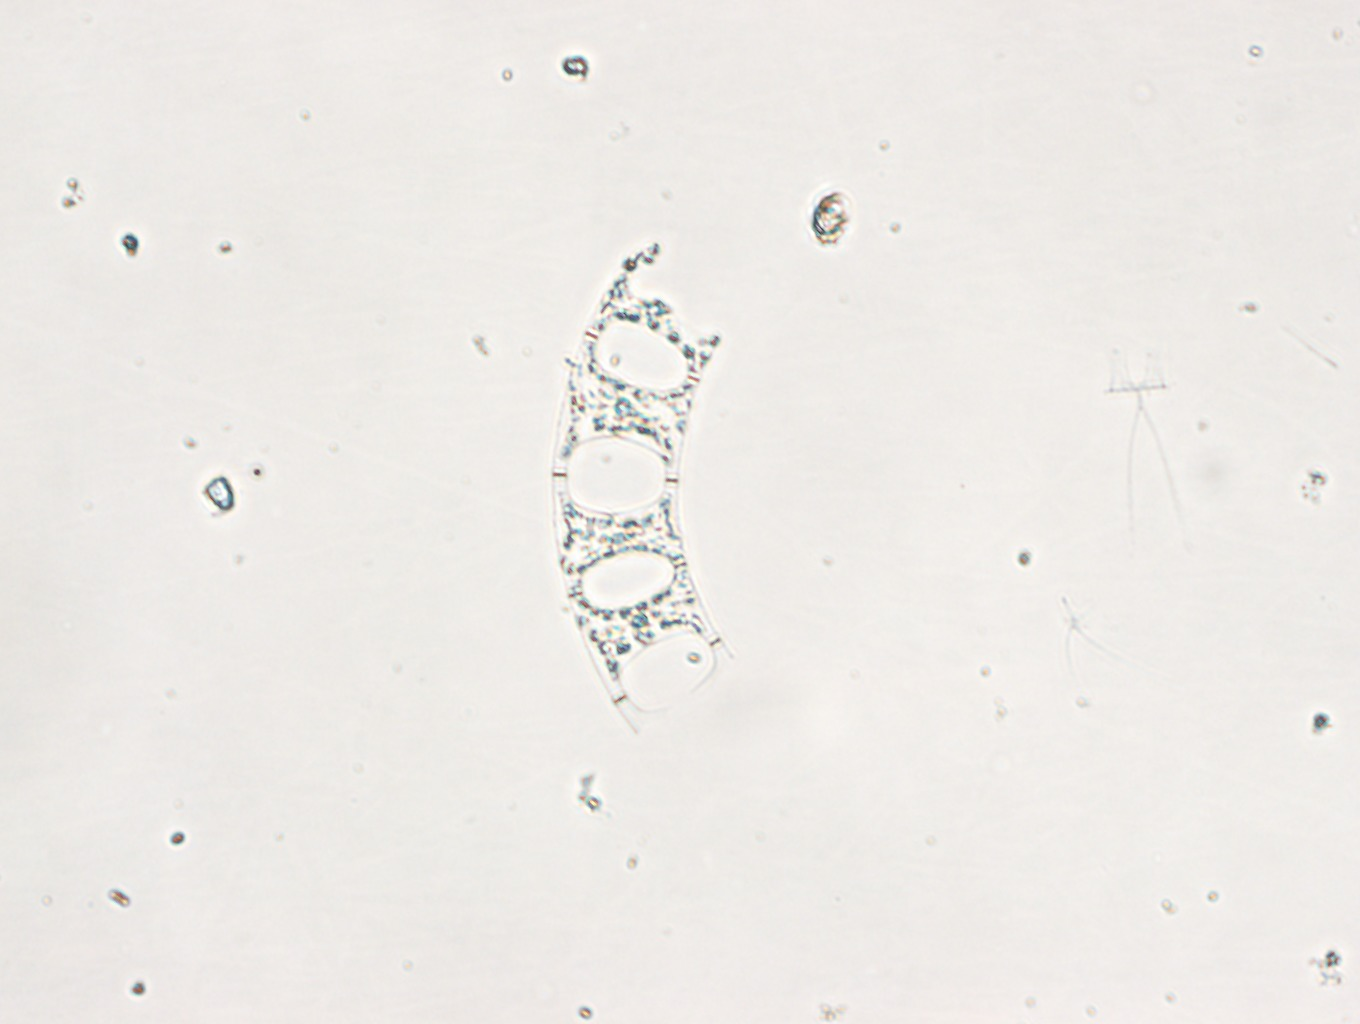chaetoceros: (1103, 342, 1187, 549)
eucampia: (550, 239, 742, 736), (548, 237, 740, 734)
